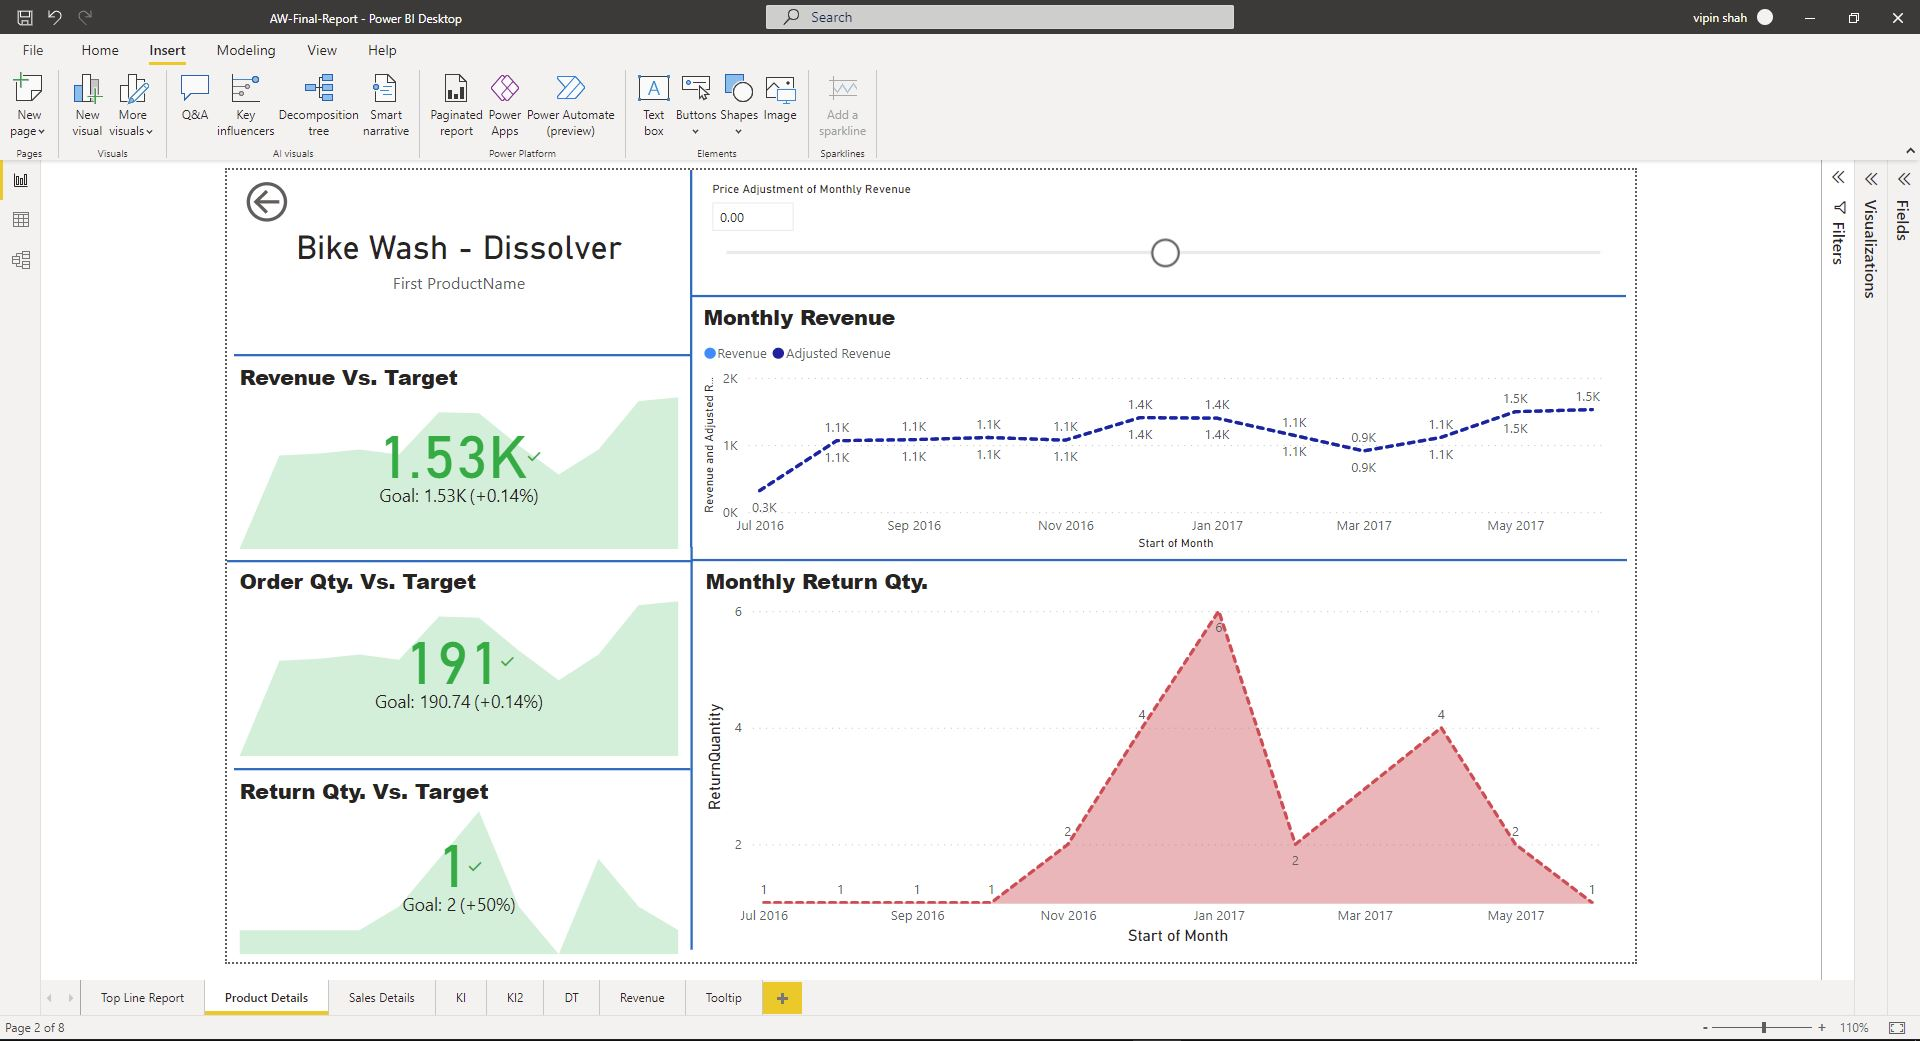

The dashboard page shown, as its layout file describes it:
{"tool":"powerbi","page":{"name":"Product Details","canvas":[1280,720],"ordinal":1},"visuals":[{"type":"lineChart","title":"Monthly Revenue ","fields":{"Y":["All Measures.Revenue","All Measures.Adjusted Revenue"],"Category":["d-Calendar.Start of Month"]},"box":[428.2,120,843.6,230],"z":0},{"type":"shape","box":[422.7,349.1,850,10.9],"z":1000},{"type":"areaChart","title":"Monthly Return Qty.","fields":{"Category":["d-Calendar.Start of Month"],"Y":["Sum(f-Returns.ReturnQuantity)"]},"box":[430,360,841.8,349.1],"z":2000},{"type":"kpi","title":"Revenue Vs. Target ","fields":{"Indicator":["All Measures.Revenue"],"TrendLine":["d-Calendar.Start of Month"],"Goal":["All Measures.Target Revenue"]},"box":[6.4,174.5,409.1,175.5],"z":3000},{"type":"shape","box":[416.4,342.7,11.8,366.4],"z":4000},{"type":"shape","box":[415.5,0,12.7,342.7],"z":5000},{"type":"kpi","title":"Order Qty. Vs. Target ","fields":{"TrendLine":["d-Calendar.Start of Month"],"Goal":["All Measures.Target Order Qty."],"Indicator":["All Measures.Total Order Qty."]},"box":[6.4,360,409.1,178.2],"z":6000},{"type":"shape","box":[6.4,538.2,415.5,12.7],"z":7000},{"type":"kpi","title":"Return Qty. Vs. Target ","fields":{"TrendLine":["d-Calendar.Start of Month"],"Goal":["All Measures.Previous Month Return Qty."],"Indicator":["All Measures.Total Return Qty."]},"box":[6.4,550.9,409.1,167.3],"z":8000},{"type":"card","fields":{"Values":["Min(d-Products.ProductName)"]},"box":[5.3,5.3,409.7,156.1],"z":9000},{"type":"shape","box":[6.4,161.8,415.5,12.7],"z":10000},{"type":"actionButton","box":[7.3,5.5,58.2,47.3],"z":11000},{"type":"shape","box":[0,349.1,422.7,12.7],"z":12000},{"type":"shape","box":[421.8,109.1,850,10.9],"z":13000},{"type":"slicer","fields":{"Values":["Price Adjustment of Monthly Revenue.Price Adjustment of Monthly Revenue"]},"box":[428.2,5.5,843.6,103.6],"z":14000}]}

Visuals, with their boxes on the page's 1280x720 design canvas (x1, y1, x2, y2). These are canvas units, not pixel positions in the 1920x1041 screenshot, which may show the page scaled, cropped or inside an application window:
"Monthly Revenue " lineChart: region(428, 120, 1272, 350)
shape: region(423, 349, 1273, 360)
"Monthly Return Qty." areaChart: region(430, 360, 1272, 709)
"Revenue Vs. Target " kpi: region(6, 174, 416, 350)
shape: region(416, 343, 428, 709)
shape: region(416, 0, 428, 343)
"Order Qty. Vs. Target " kpi: region(6, 360, 416, 538)
shape: region(6, 538, 422, 551)
"Return Qty. Vs. Target " kpi: region(6, 551, 416, 718)
card - Min(d-Products.ProductName): region(5, 5, 415, 161)
shape: region(6, 162, 422, 174)
actionButton: region(7, 6, 66, 53)
shape: region(0, 349, 423, 362)
shape: region(422, 109, 1272, 120)
slicer - Price Adjustment of Monthly Revenue.Price Adjustment of Monthly Revenue: region(428, 6, 1272, 109)
